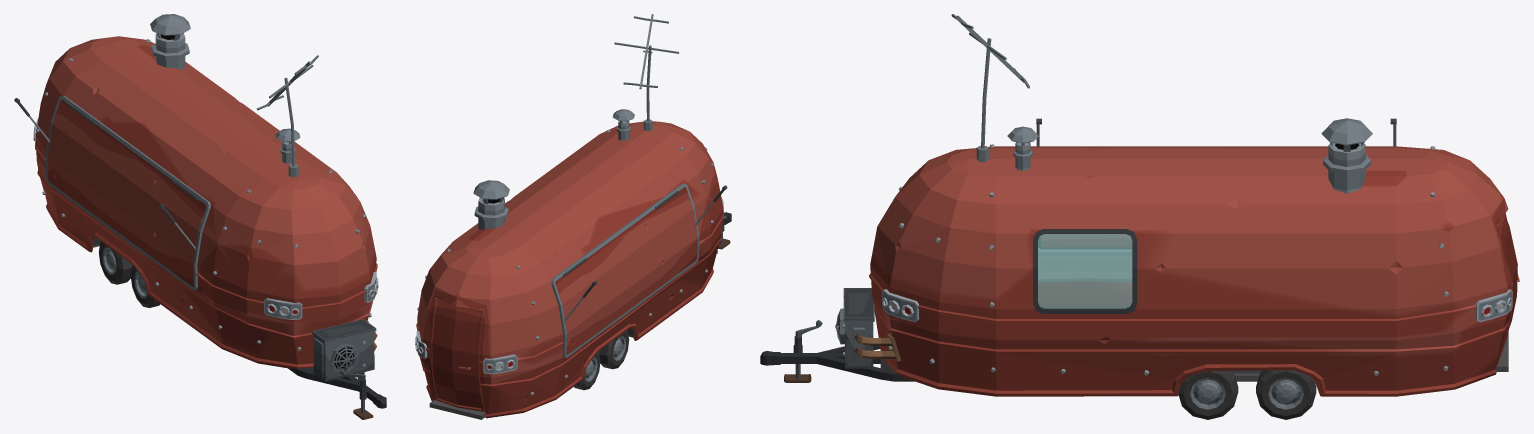
Rendered from SM_Veh_Food_Truck_01.fbx.
3 views of the same model, side by side, from view 1: azimuth 30°, elevation 25°; view 2: azimuth 150°, elevation 25°; view 3: azimuth 270°, elevation 25° (orthographic). The views are drawn at different scales.
Visible parts, largest first — view 1: SM_Veh_Food_Truck_01, SM_Veh_Food_Trailer_01_Wheel_RR, SM_Veh_Food_Trailer_01_Wheel_FR; view 2: SM_Veh_Food_Truck_01, SM_Veh_Food_Trailer_01_Wheel_FR, SM_Veh_Food_Trailer_01_Wheel_RR; view 3: SM_Veh_Food_Truck_01, SM_Veh_Food_Trailer_01_Wheel_RL, SM_Veh_Food_Trailer_01_Wheel_FL.
Part boxes in pixels (<box>): SM_Veh_Food_Truck_01: <box>14,14,386,419</box>; SM_Veh_Food_Trailer_01_Wheel_RR: <box>99,241,132,284</box>; SM_Veh_Food_Trailer_01_Wheel_FR: <box>130,265,160,307</box>; SM_Veh_Food_Truck_01: <box>415,14,731,419</box>; SM_Veh_Food_Trailer_01_Wheel_FR: <box>599,330,629,369</box>; SM_Veh_Food_Trailer_01_Wheel_RR: <box>574,351,600,390</box>; SM_Veh_Food_Truck_01: <box>760,14,1519,396</box>; SM_Veh_Food_Trailer_01_Wheel_RL: <box>1256,370,1316,419</box>; SM_Veh_Food_Trailer_01_Wheel_FL: <box>1178,371,1238,419</box>.
Size of the model in its own units: 349 by 543 by 1003.
